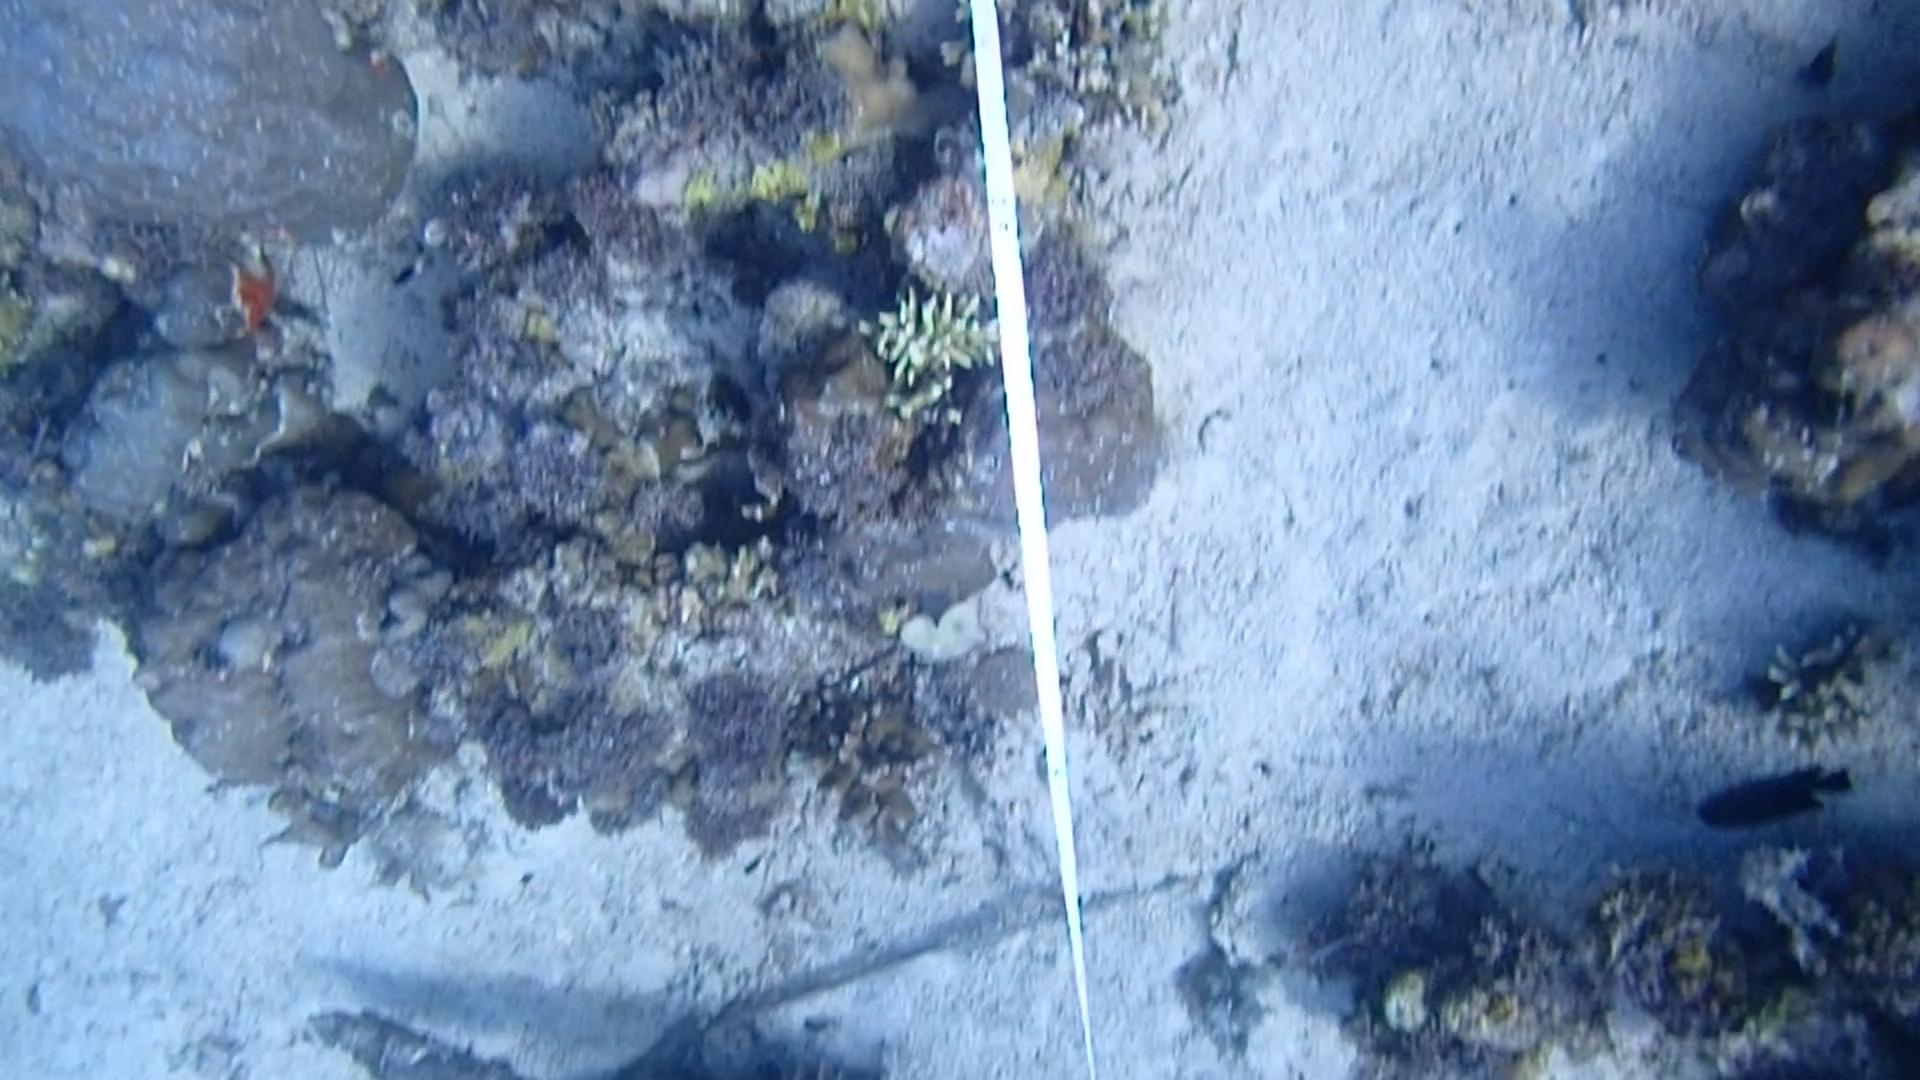Dark Fish: (1697, 757, 1854, 839)
